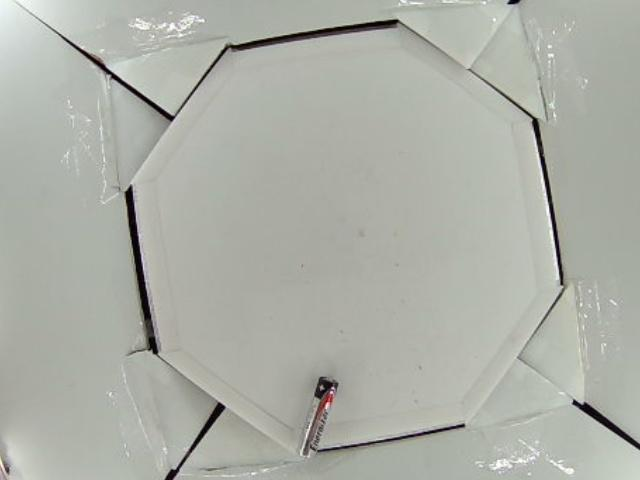Battery: (295, 377, 338, 460)
